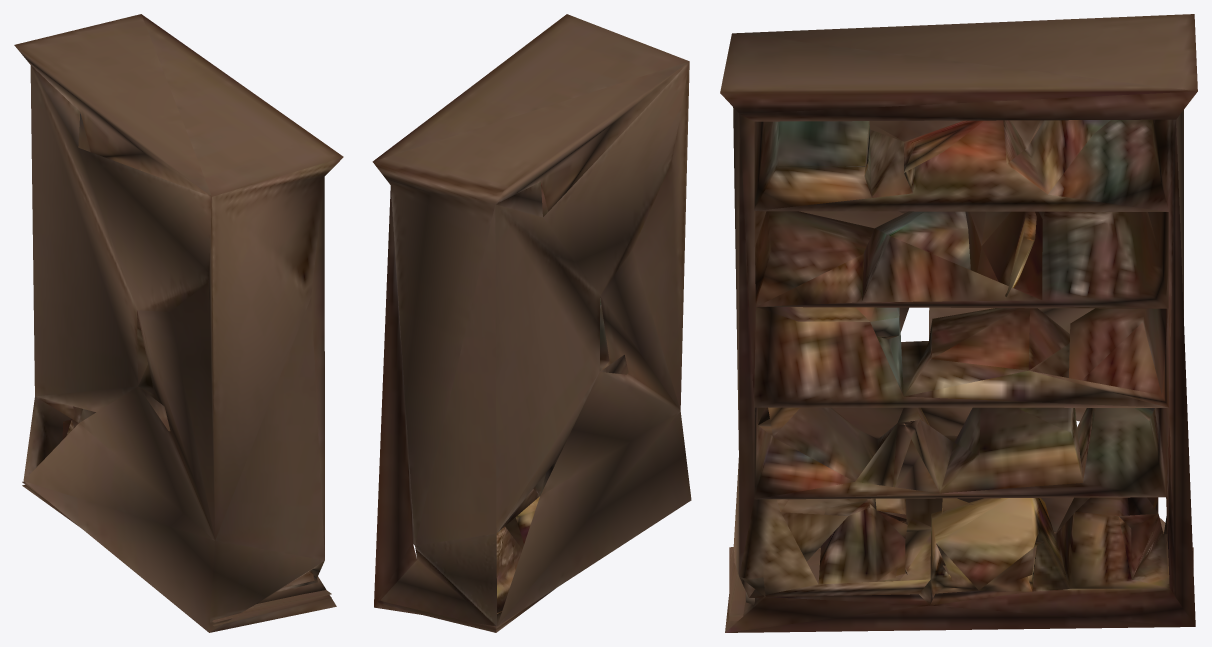
The model's file is estanteria.glb.
3 renders of one model, left to right at view 1: azimuth 30°, elevation 25°; view 2: azimuth 150°, elevation 25°; view 3: azimuth 270°, elevation 25°, orthographic. The views are drawn at different scales.
Visible parts, largest first — view 1: tripo_node_2335999e-4f93-42c2-8445-488d55a1a13d; view 2: tripo_node_2335999e-4f93-42c2-8445-488d55a1a13d; view 3: tripo_node_2335999e-4f93-42c2-8445-488d55a1a13d.
Part boxes in pixels (x1,y1,x2,y2): tripo_node_2335999e-4f93-42c2-8445-488d55a1a13d: (14, 14, 343, 632); tripo_node_2335999e-4f93-42c2-8445-488d55a1a13d: (372, 14, 691, 632); tripo_node_2335999e-4f93-42c2-8445-488d55a1a13d: (720, 14, 1197, 632).
Size of the model in its own units: 0.309 by 0.9989 by 0.796.
Materials: 1 (1 with a texture image).
